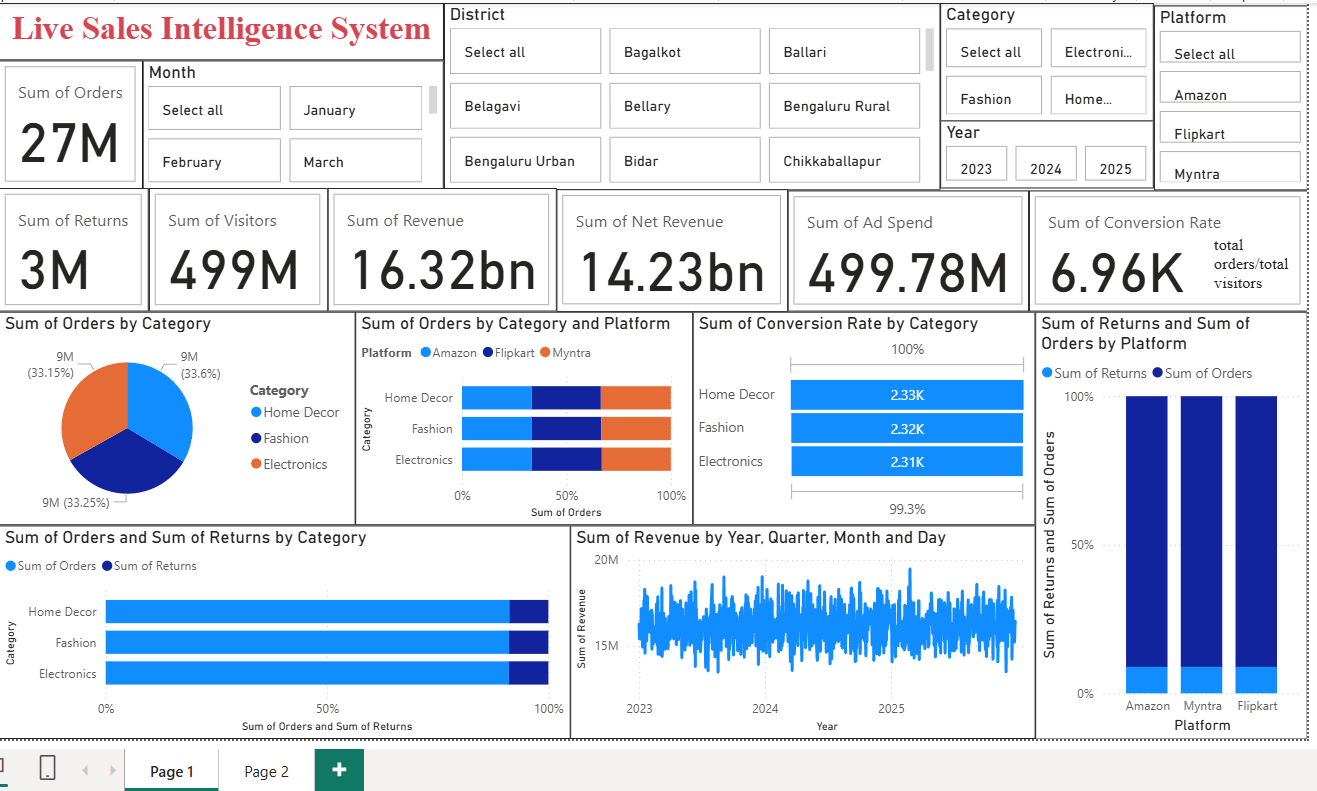

What the dashboard file says about the page in this screenshot:
{"tool":"powerbi","page":{"name":"Page 1","canvas":[1280,720],"ordinal":0},"visuals":[{"type":"textbox","box":[0,0,435,56.3],"z":0},{"type":"advancedSlicerVisual","fields":{"Values":["sales_data (2).District"]},"box":[435.3,0,485.5,183.4],"z":1000},{"type":"advancedSlicerVisual","fields":{"Values":["sales_data (2).Category"]},"box":[920.8,0,209.1,116.2],"z":2000},{"type":"advancedSlicerVisual","fields":{"Values":["sales_data (2).Date.Variation.Date Hierarchy.Year"]},"box":[920.8,114.9,209.1,66],"z":3000},{"type":"advancedSlicerVisual","fields":{"Values":["sales_data (2).Date.Variation.Date Hierarchy.Month"]},"box":[174.9,56.3,260.5,127.2],"z":4000},{"type":"advancedSlicerVisual","fields":{"Values":["sales_data (2).Platform"]},"box":[1129.9,2.4,150.4,181],"z":5000},{"type":"cardVisual","fields":{"Data":["Sum(sales_data (2).Visitors)"]},"box":[0,56.3,174.9,126],"z":6000},{"type":"cardVisual","fields":{"Data":["Sum(sales_data (2).Returns)"]},"box":[0,181,146.7,121.1],"z":7000},{"type":"cardVisual","fields":{"Data":["Sum(sales_data (2).Orders)"]},"box":[146.7,181,174.9,121.1],"z":8000},{"type":"cardVisual","fields":{"Data":["Sum(sales_data (2).Revenue)"]},"box":[321.6,181,223.8,121.1],"z":9000},{"type":"cardVisual","fields":{"Data":["Sum(sales_data (2).Net Revenue)"]},"box":[545.4,182.2,226.2,119.8],"z":10000},{"type":"cardVisual","fields":{"Data":["Sum(sales_data (2).Ad Spend)"]},"box":[771.6,183.4,236,118.6],"z":11000},{"type":"cardVisual","fields":{"Data":["Sum(sales_data (2).Order Completion Ratio)"]},"box":[1007.6,183.4,272.7,118.6],"z":12000},{"type":"textbox","box":[1183.7,222.6,86.8,66],"z":13000},{"type":"pieChart","fields":{"Y":["Sum(sales_data (2).Orders)"],"Category":["sales_data (2).Category"]},"box":[0,302,348.5,209.1],"z":14000},{"type":"lineChart","fields":{"Y":["Sum(sales_data (2).Revenue)"],"Category":["sales_data (2).Date.Variation.Date Hierarchy.Year","sales_data (2).Date.Variation.Date Hierarchy.Quarter","sales_data (2).Date.Variation.Date Hierarchy.Month","sales_data (2).Date.Variation.Date Hierarchy.Day"]},"box":[558.8,511.1,454.9,209.1],"z":15000},{"type":"hundredPercentStackedBarChart","fields":{"Y":["Sum(sales_data (2).Orders)"],"Category":["sales_data (2).Category"],"Series":["sales_data (2).Platform"]},"box":[348.5,302,330.2,209.1],"z":16000},{"type":"hundredPercentStackedColumnChart","fields":{"Y":["Sum(sales_data (2).Returns)","Sum(sales_data (2).Orders)"],"Category":["sales_data (2).Platform"]},"box":[1013.7,302,266.6,418.2],"z":17000},{"type":"funnel","fields":{"Y":["Sum(sales_data (2).Order Completion Ratio)"],"Category":["sales_data (2).Category"]},"box":[678.7,302,335.1,209.1],"z":18000},{"type":"hundredPercentStackedBarChart","fields":{"Y":["Sum(sales_data (2).Orders)","Sum(sales_data (2).Returns)"],"Category":["sales_data (2).Category"]},"box":[0,511.1,558.8,209.1],"z":19000}]}

Visuals, with their boxes on the page's 1280x720 design canvas (x1, y1, x2, y2). These are canvas units, not pixel positions in the 1317x791 screenshot, which may show the page scaled, cropped or inside an application window:
textbox: [0, 0, 435, 56]
advancedSlicerVisual - sales_data (2).District: [435, 0, 921, 183]
advancedSlicerVisual - sales_data (2).Category: [921, 0, 1130, 116]
advancedSlicerVisual - sales_data (2).Date.Variation.Date Hierarchy.Year: [921, 115, 1130, 181]
advancedSlicerVisual - sales_data (2).Date.Variation.Date Hierarchy.Month: [175, 56, 435, 184]
advancedSlicerVisual - sales_data (2).Platform: [1130, 2, 1280, 183]
cardVisual - Sum(sales_data (2).Visitors): [0, 56, 175, 182]
cardVisual - Sum(sales_data (2).Returns): [0, 181, 147, 302]
cardVisual - Sum(sales_data (2).Orders): [147, 181, 322, 302]
cardVisual - Sum(sales_data (2).Revenue): [322, 181, 545, 302]
cardVisual - Sum(sales_data (2).Net Revenue): [545, 182, 772, 302]
cardVisual - Sum(sales_data (2).Ad Spend): [772, 183, 1008, 302]
cardVisual - Sum(sales_data (2).Order Completion Ratio): [1008, 183, 1280, 302]
textbox: [1184, 223, 1270, 289]
pieChart - Sum(sales_data (2).Orders) x sales_data (2).Category: [0, 302, 348, 511]
lineChart - Sum(sales_data (2).Revenue) x sales_data (2).Date.Variation.Date Hierarchy.Year: [559, 511, 1014, 720]
hundredPercentStackedBarChart - Sum(sales_data (2).Orders) x sales_data (2).Category: [348, 302, 679, 511]
hundredPercentStackedColumnChart - Sum(sales_data (2).Returns) x Sum(sales_data (2).Orders): [1014, 302, 1280, 720]
funnel - Sum(sales_data (2).Order Completion Ratio) x sales_data (2).Category: [679, 302, 1014, 511]
hundredPercentStackedBarChart - Sum(sales_data (2).Orders) x Sum(sales_data (2).Returns): [0, 511, 559, 720]
